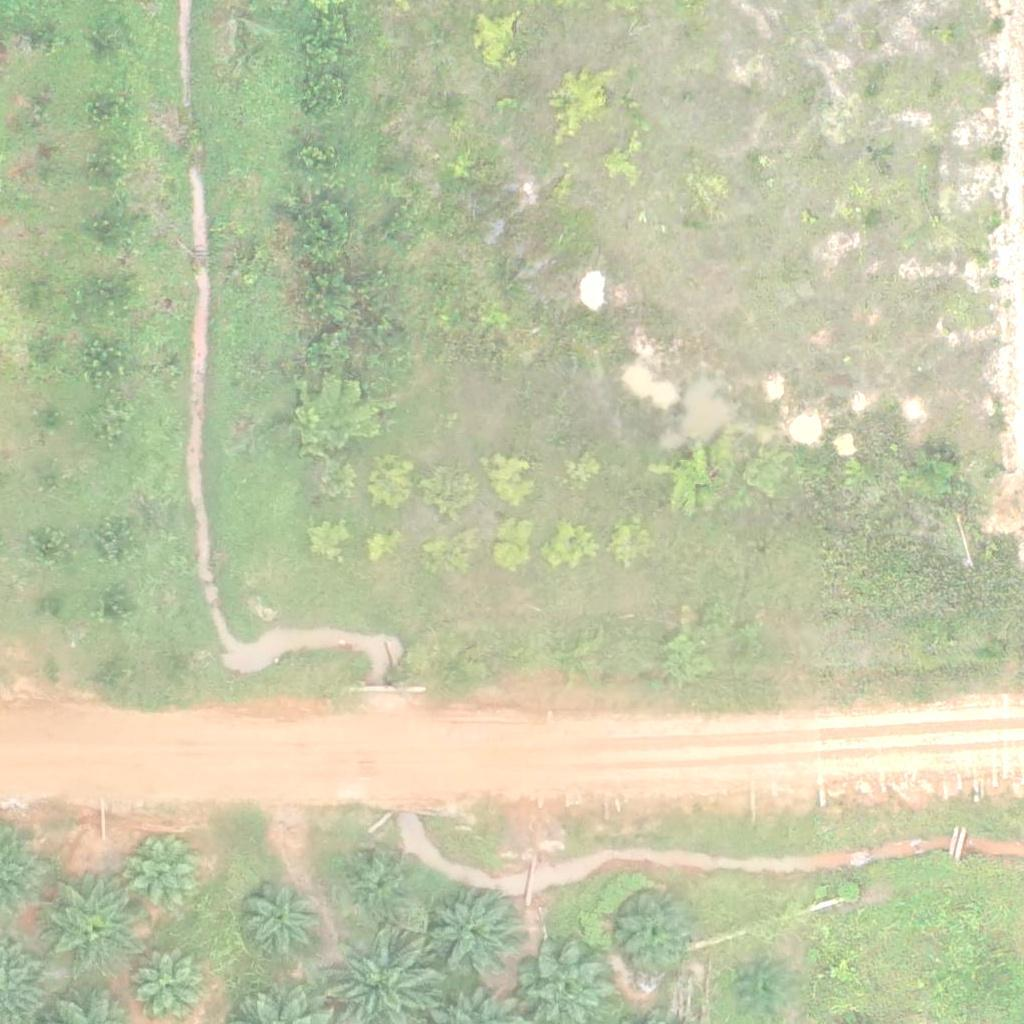Kelapa_Sawit: (42, 873, 142, 974), (432, 892, 520, 980), (239, 878, 326, 967), (127, 831, 214, 919), (618, 892, 693, 968), (132, 948, 207, 1023), (352, 855, 414, 918), (739, 968, 789, 1018)
